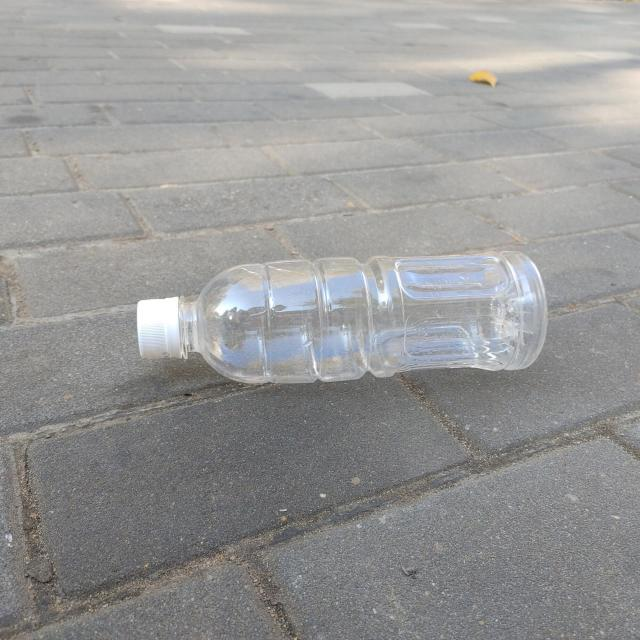plastic: (136, 252, 548, 384)
